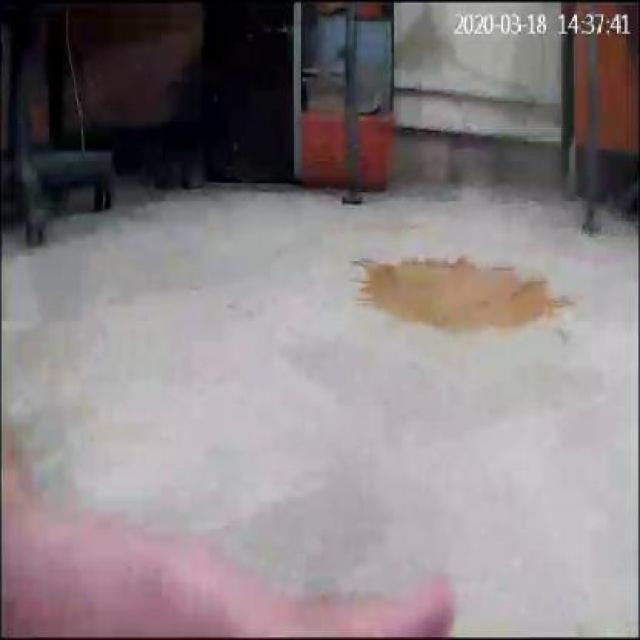spill: (352, 252, 560, 348)
